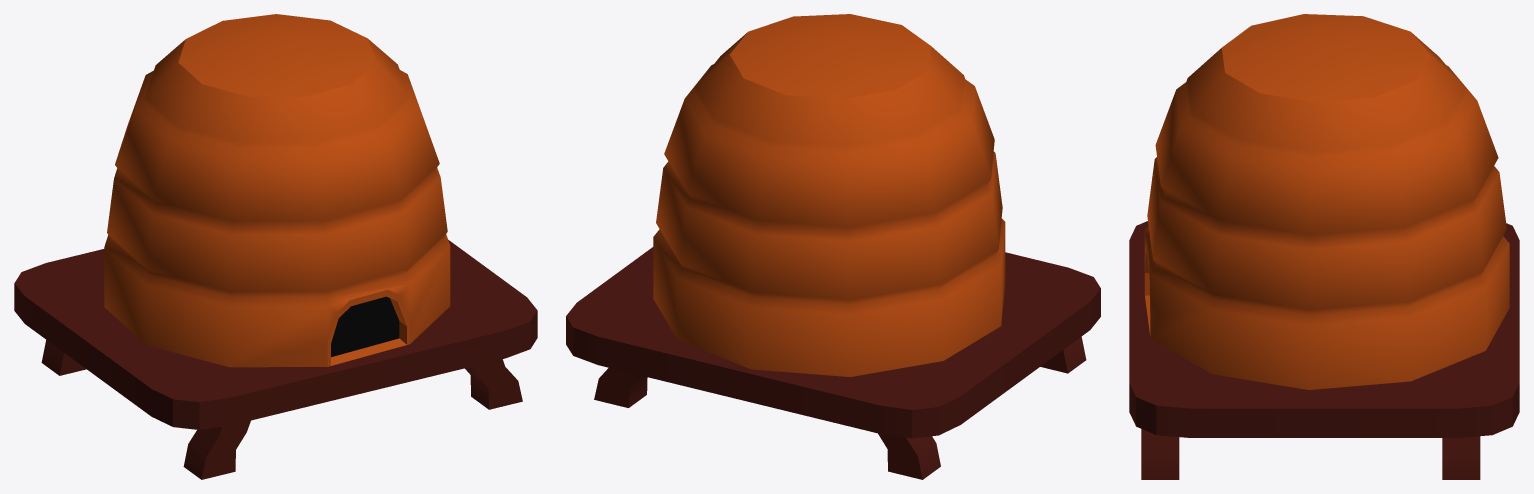
The model's file is beehive.fbx.
3 views of the same model, side by side, from view 1: azimuth 30°, elevation 25°; view 2: azimuth 150°, elevation 25°; view 3: azimuth 270°, elevation 25° (orthographic). The views are drawn at different scales.
Visible parts, largest first — view 1: beehive; view 2: beehive; view 3: beehive.
Boxes of the visible parts, left/top/right/bottom form: beehive: left=14, top=14, right=537, bottom=479; beehive: left=566, top=14, right=1100, bottom=479; beehive: left=1129, top=14, right=1519, bottom=479.
Bounding box in the file's own units: 615 × 529 × 522.
